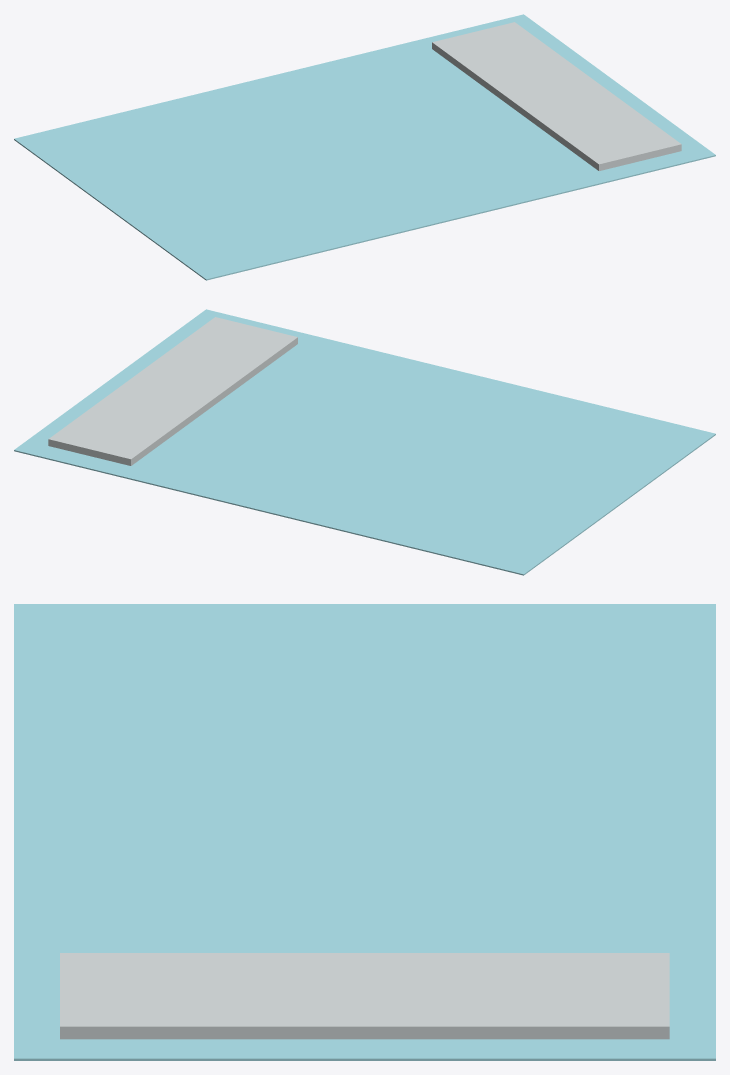
3 renders of one model, top to bottom at view 1: azimuth 30°, elevation 25°; view 2: azimuth 150°, elevation 25°; view 3: azimuth 270°, elevation 25°, orthographic. The views are drawn at different scales.
Parts seen in each view (by area): view 1: 基础底座, 冷却塔基础; view 2: 基础底座, 冷却塔基础; view 3: 基础底座, 冷却塔基础.
Part boxes in pixels (bbox=[...]): 基础底座: bbox=[14, 14, 715, 280]; 冷却塔基础: bbox=[432, 22, 681, 170]; 基础底座: bbox=[14, 309, 715, 575]; 冷却塔基础: bbox=[48, 317, 297, 465]; 基础底座: bbox=[14, 604, 715, 1060]; 冷却塔基础: bbox=[60, 953, 669, 1039].
Bounding box in the file's own units: 844 × 12.81 × 551.
